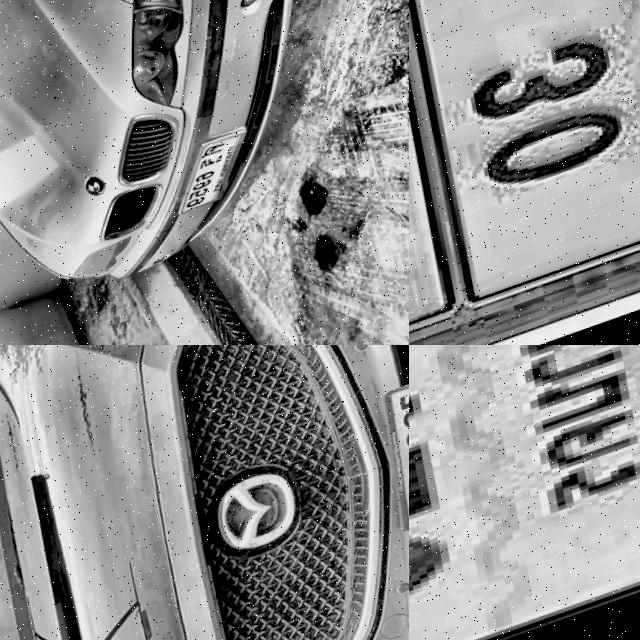license-plate: (409, 0, 640, 332), (409, 345, 640, 640), (409, 0, 494, 345), (164, 131, 267, 226), (375, 372, 409, 547)
